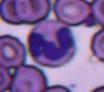N: (28, 20, 76, 68)
